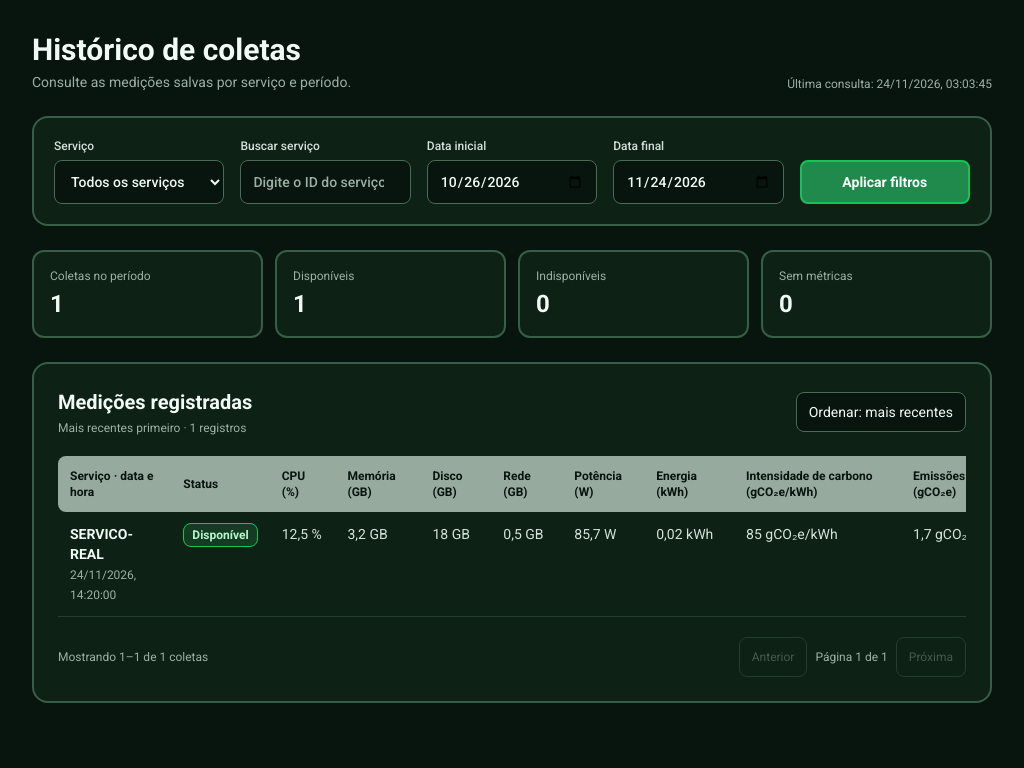
Test case: HistoricoPage › recusa um período inválido sem fazer uma nova consulta
This screenshot has width=1024, height=768.
Expected: the row "SERVICO-REAL" is shown, x1=58 y1=512 x2=966 y2=616
Type "2026-11-20" into the date field labelled "Data inicial".
click(512, 182); type("2026-11-20")  # box x1=427 y1=160 x2=597 y2=204
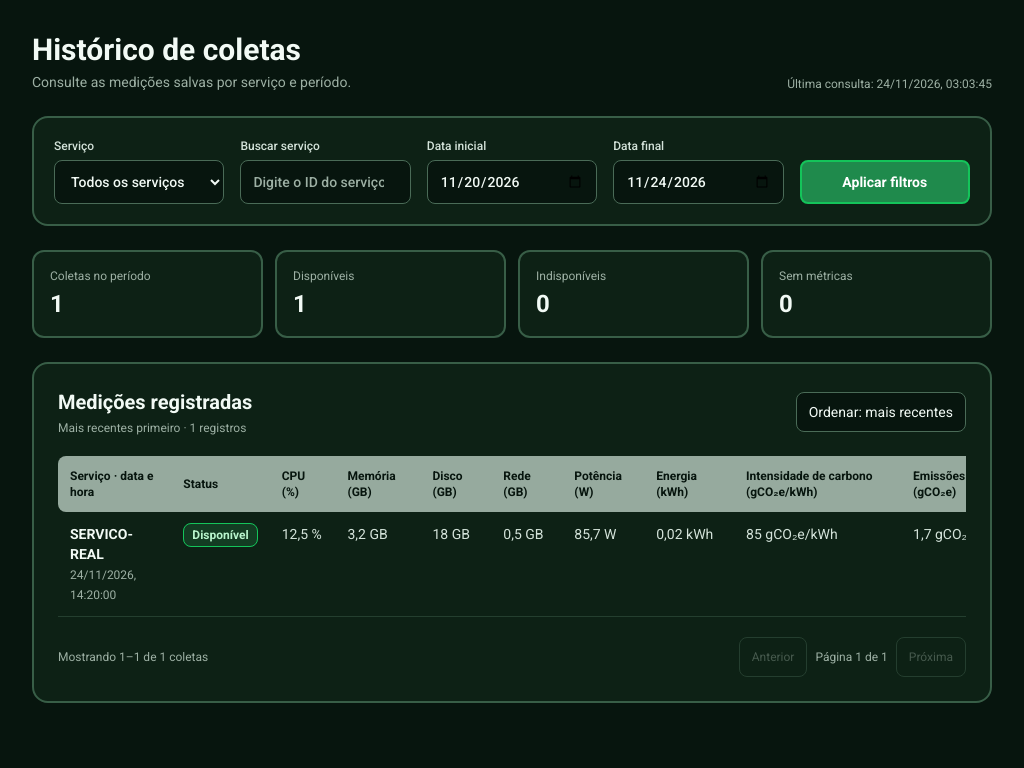
Type "2026-11-18" into the date field labelled "Data final".
click(698, 182); type("2026-11-18")  # box x1=613 y1=160 x2=784 y2=204
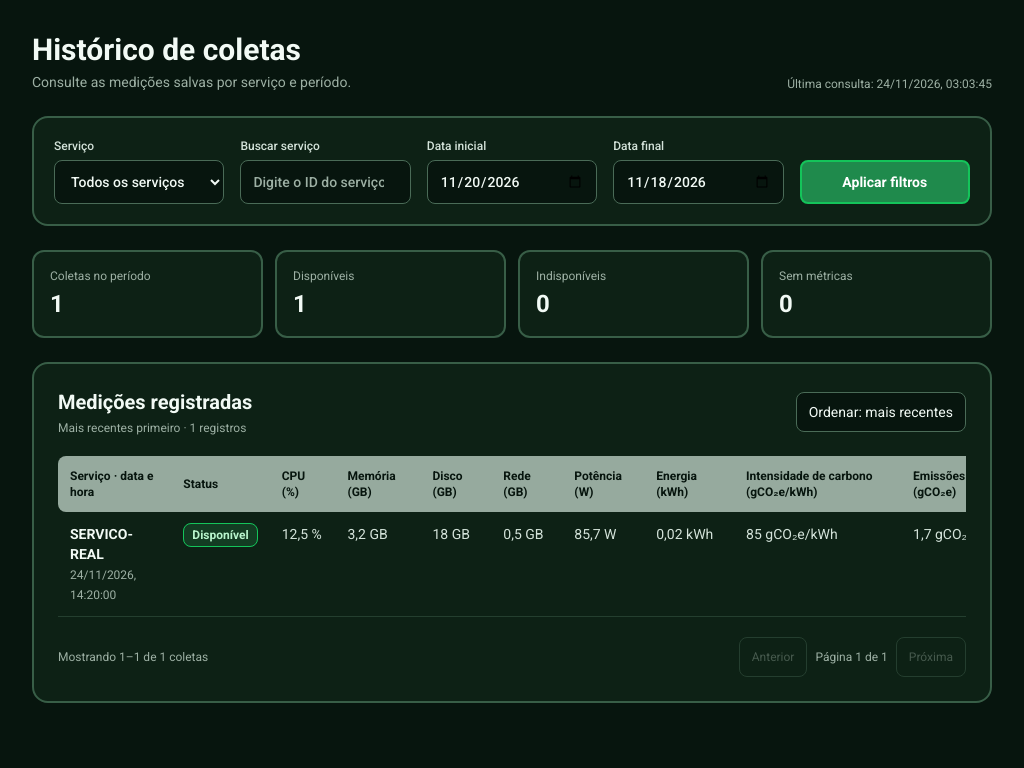
Click the button "Aplicar filtros".
click(885, 182)  # box x1=800 y1=160 x2=970 y2=204
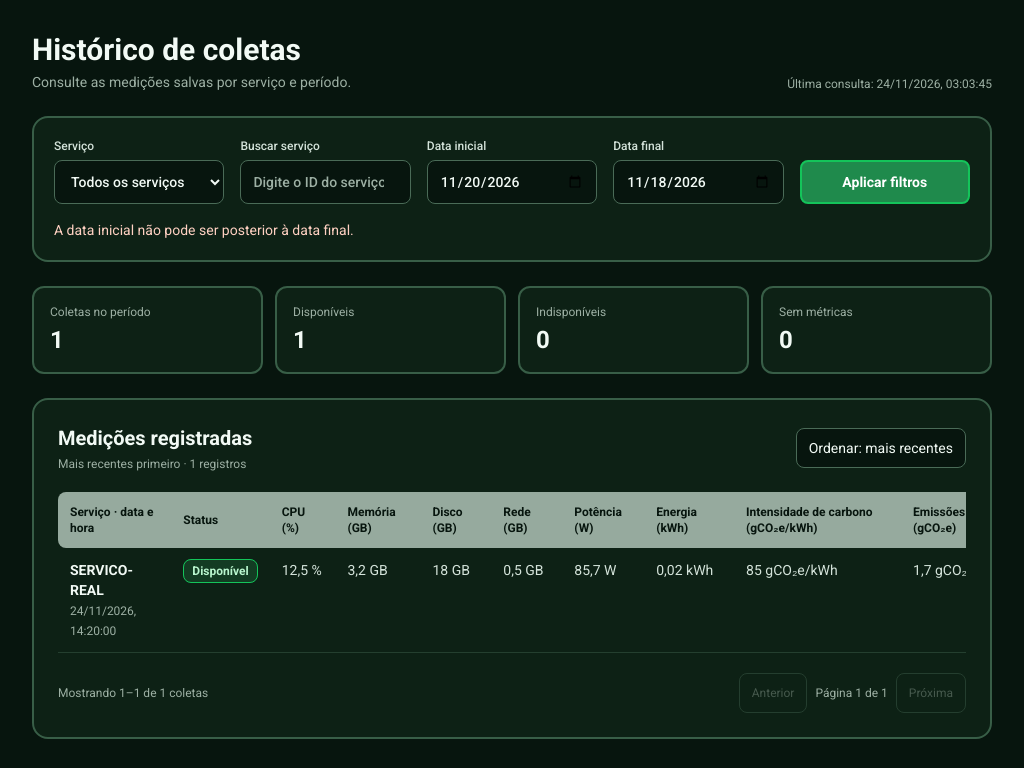
Expected: the message reads "A data inicial não pode ser posterior à data final.", x1=54 y1=222 x2=354 y2=238
